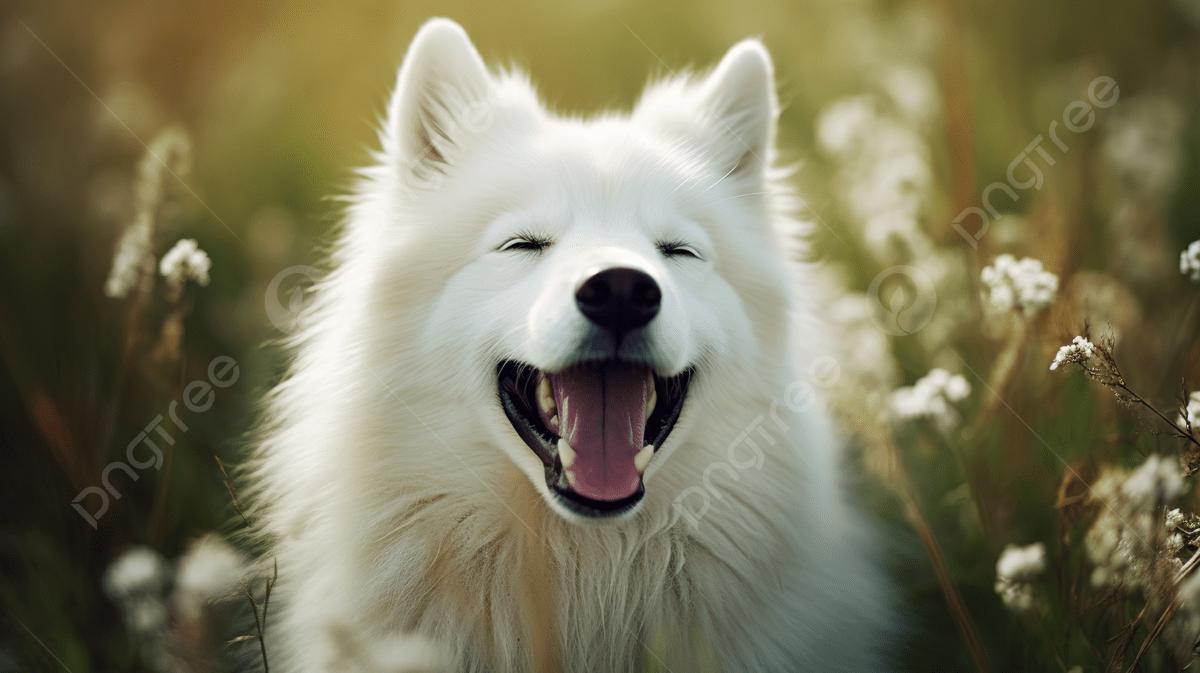dog: (286, 8, 878, 673)
